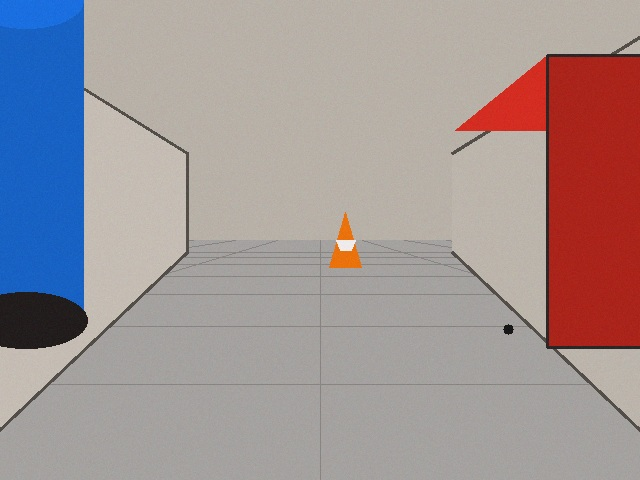cart: (455, 55, 639, 347)
directional_sign: (616, 165, 639, 204)
obstacle: (329, 212, 361, 267)
person: (0, 0, 83, 320)
